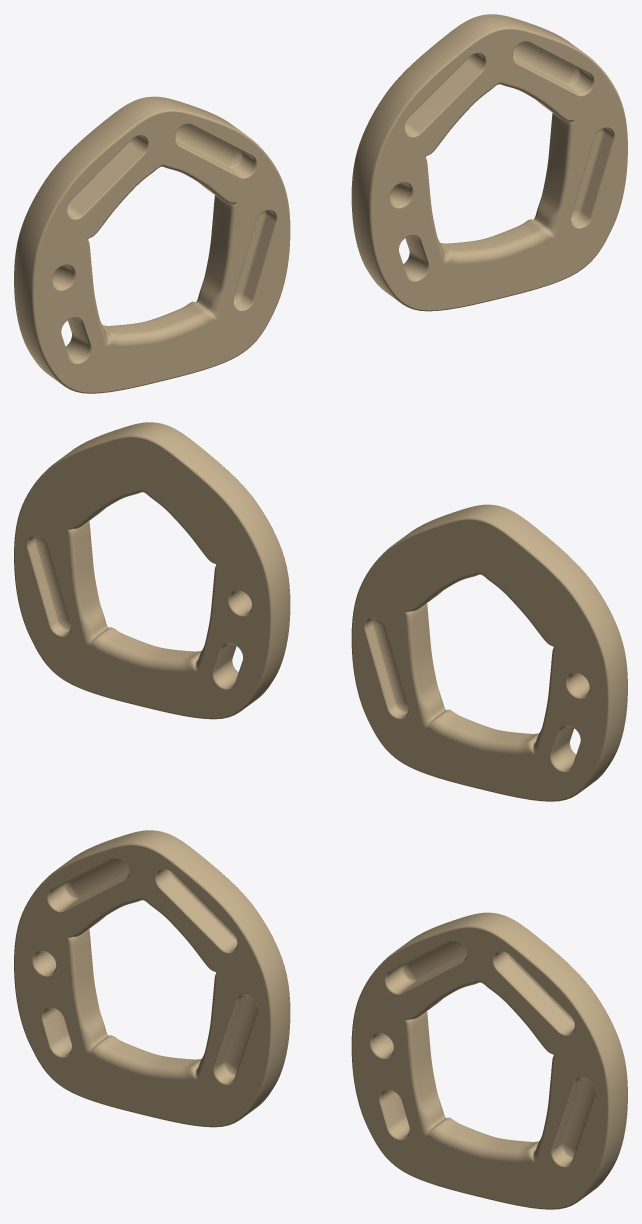
The model's file is yy-vertical-penta-evo.glb.
3 views of the same model, one above another, from view 1: azimuth 30°, elevation 25°; view 2: azimuth 150°, elevation 25°; view 3: azimuth 330°, elevation 25° (orthographic).
Parts seen in each view (by area): view 1: pe-R--body, pe-L--body, pe-L-jug, pe-R-jug, pe-L-edge-25, pe-R-edge-25, pe-R-edge-15, pe-L-edge-15, pe-R-duo, pe-L-duo, pe-R-edge-20, pe-L-edge-20 (+2 smaller); view 2: pe-L--body, pe-R--body, pe-L-jug, pe-R-jug, pe-R-edge-10, pe-L-edge-10, pe-R-duo, pe-L-duo, pe-L-mono, pe-R-mono; view 3: pe-L--body, pe-R--body, pe-R-jug, pe-L-jug, pe-R-edge-20, pe-L-edge-20, pe-L-duo, pe-R-duo, pe-R-edge-25, pe-L-edge-25, pe-L-mono, pe-R-mono.
Part boxes in pixels (left/top/right/bottom): pe-R--body: left=351, top=14, right=627, bottom=311; pe-L--body: left=14, top=96, right=290, bottom=393; pe-L-jug: left=101, top=294, right=222, bottom=346; pe-R-jug: left=439, top=211, right=560, bottom=264; pe-L-edge-25: left=67, top=136, right=149, bottom=219; pe-R-edge-25: left=404, top=53, right=486, bottom=137; pe-R-edge-15: left=571, top=127, right=615, bottom=228; pe-L-edge-15: left=233, top=210, right=277, bottom=310; pe-R-duo: left=398, top=234, right=429, bottom=281; pe-L-duo: left=61, top=317, right=91, bottom=364; pe-R-edge-20: left=512, top=49, right=592, bottom=96; pe-L-edge-20: left=174, top=131, right=254, bottom=178; pe-L--body: left=351, top=504, right=627, bottom=801; pe-R--body: left=14, top=422, right=290, bottom=719; pe-L-jug: left=419, top=702, right=540, bottom=754; pe-R-jug: left=81, top=619, right=202, bottom=672; pe-R-edge-10: left=26, top=535, right=68, bottom=636; pe-L-edge-10: left=364, top=618, right=406, bottom=718; pe-R-duo: left=212, top=642, right=243, bottom=689; pe-L-duo: left=550, top=725, right=580, bottom=772; pe-L-mono: left=565, top=672, right=590, bottom=698; pe-R-mono: left=228, top=590, right=252, bottom=616; pe-L--body: left=14, top=830, right=290, bottom=1127; pe-R--body: left=351, top=912, right=627, bottom=1209; pe-R-jug: left=419, top=1110, right=540, bottom=1162; pe-L-jug: left=81, top=1027, right=202, bottom=1080; pe-R-edge-20: left=492, top=952, right=574, bottom=1035; pe-L-edge-20: left=155, top=869, right=237, bottom=953; pe-L-duo: left=41, top=1007, right=72, bottom=1057; pe-R-duo: left=379, top=1089, right=409, bottom=1140; pe-R-edge-25: left=387, top=947, right=467, bottom=994; pe-L-edge-25: left=49, top=865, right=129, bottom=912; pe-L-mono: left=32, top=950, right=56, bottom=976; pe-R-mono: left=369, top=1032, right=394, bottom=1059.
Bounding box in the file's own units: 0.53 × 0.23 × 0.03.
